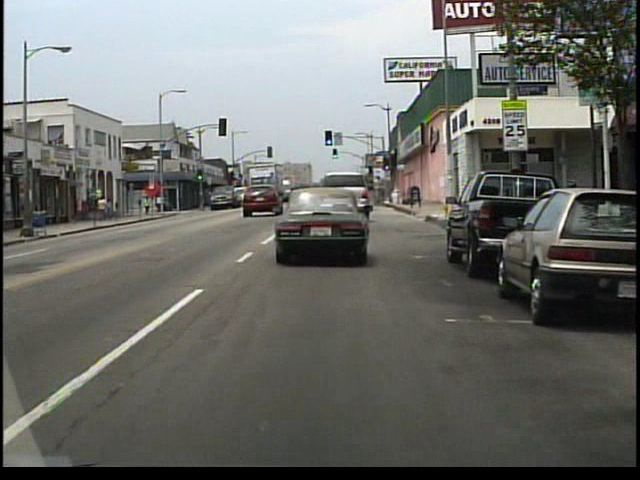person: (99, 196, 109, 222), (106, 198, 114, 222), (143, 196, 152, 217)
